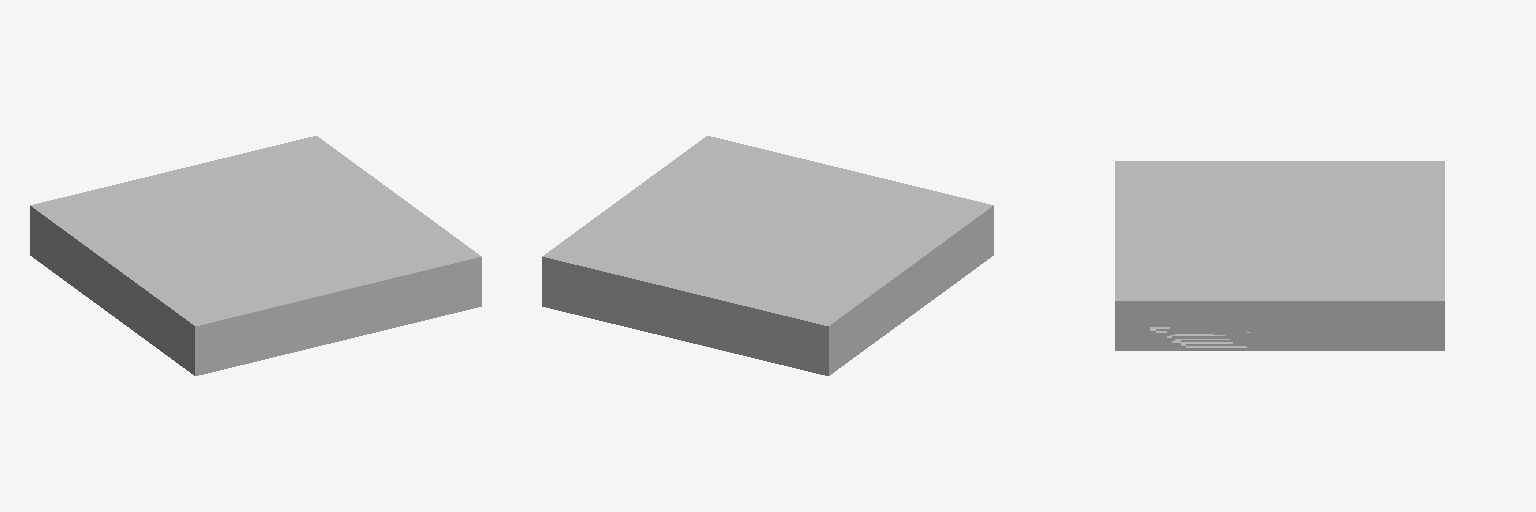
The model's file is map 9.obj.
3 renders of one model, left to right at view 1: azimuth 30°, elevation 25°; view 2: azimuth 150°, elevation 25°; view 3: azimuth 270°, elevation 25°, orthographic.
Visible parts, largest first — view 1: object 1; view 2: object 1; view 3: object 1.
Part boxes in pixels (bbox=[...]): object 1: bbox=[30, 136, 481, 375]; object 1: bbox=[542, 136, 993, 375]; object 1: bbox=[1115, 161, 1444, 350].
Size of the model in its own units: 12 by 2 by 12.